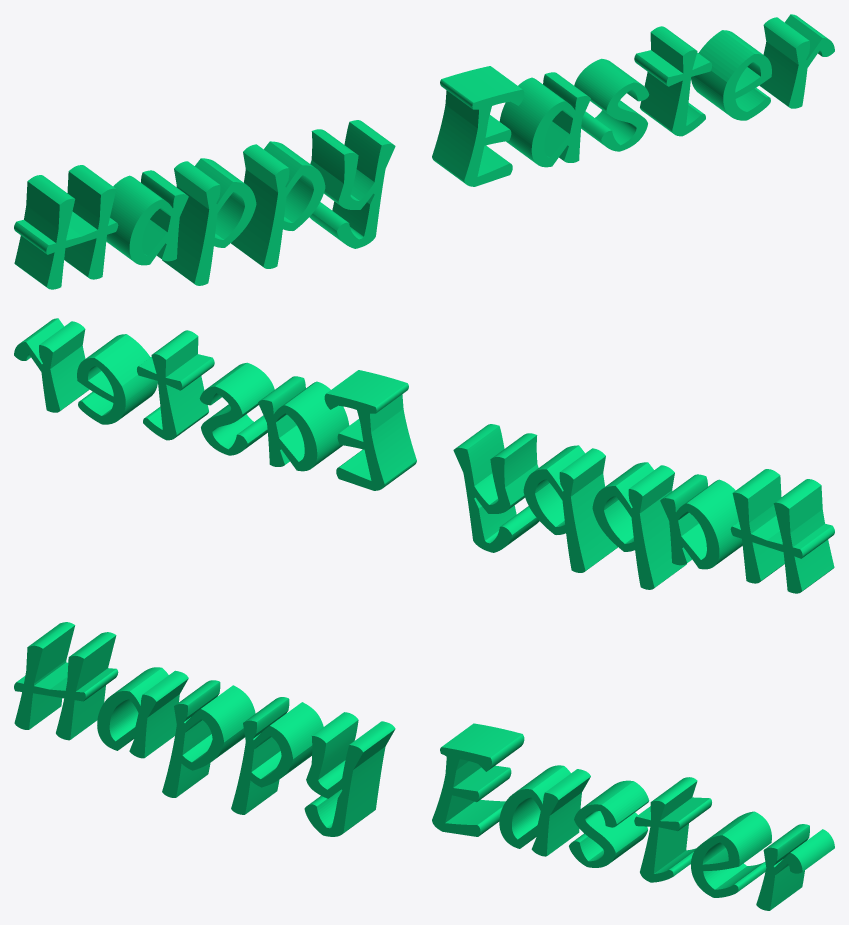
File: happy.obj
3 renders of one model, top to bottom at view 1: azimuth 30°, elevation 25°; view 2: azimuth 150°, elevation 25°; view 3: azimuth 330°, elevation 25°, orthographic.
Parts seen in each view (by area): view 1: 000_3D_Text_-_H, 004_3D_Text_-_y, 005_3D_Text_-_E, 003_3D_Text_-_p, 002_3D_Text_-_p, 006_3D_Text_-_a, 001_3D_Text_-_a, 008_3D_Text_-_t, 009_3D_Text_-_e, 007_3D_Text_-_s, 010_3D_Text_-_r; view 2: 000_3D_Text_-_H, 004_3D_Text_-_y, 005_3D_Text_-_E, 003_3D_Text_-_p, 002_3D_Text_-_p, 006_3D_Text_-_a, 001_3D_Text_-_a, 008_3D_Text_-_t, 009_3D_Text_-_e, 007_3D_Text_-_s, 010_3D_Text_-_r; view 3: 000_3D_Text_-_H, 004_3D_Text_-_y, 005_3D_Text_-_E, 002_3D_Text_-_p, 003_3D_Text_-_p, 006_3D_Text_-_a, 001_3D_Text_-_a, 009_3D_Text_-_e, 007_3D_Text_-_s, 008_3D_Text_-_t, 010_3D_Text_-_r.
Boxes of the visible parts, <box> form: 000_3D_Text_-_H: <box>14,165,118,289</box>; 004_3D_Text_-_y: <box>309,120,395,248</box>; 005_3D_Text_-_E: <box>432,66,524,186</box>; 003_3D_Text_-_p: <box>231,141,325,268</box>; 002_3D_Text_-_p: <box>162,158,256,285</box>; 006_3D_Text_-_a: <box>499,72,590,167</box>; 001_3D_Text_-_a: <box>106,170,188,265</box>; 008_3D_Text_-_t: <box>634,26,711,136</box>; 009_3D_Text_-_e: <box>691,30,771,120</box>; 007_3D_Text_-_s: <box>574,58,649,151</box>; 010_3D_Text_-_r: <box>759,14,834,108</box>; 000_3D_Text_-_H: <box>730,469,834,593</box>; 004_3D_Text_-_y: <box>453,424,539,552</box>; 005_3D_Text_-_E: <box>324,370,416,490</box>; 003_3D_Text_-_p: <box>523,445,617,572</box>; 002_3D_Text_-_p: <box>592,462,686,589</box>; 006_3D_Text_-_a: <box>258,376,349,471</box>; 001_3D_Text_-_a: <box>660,474,742,569</box>; 008_3D_Text_-_t: <box>137,330,214,440</box>; 009_3D_Text_-_e: <box>77,334,157,424</box>; 007_3D_Text_-_s: <box>199,362,274,455</box>; 010_3D_Text_-_r: <box>14,318,89,412</box>; 000_3D_Text_-_H: <box>14,622,118,740</box>; 004_3D_Text_-_y: <box>304,712,395,836</box>; 005_3D_Text_-_E: <box>432,723,524,836</box>; 002_3D_Text_-_p: <box>162,680,255,797</box>; 003_3D_Text_-_p: <box>231,697,323,814</box>; 006_3D_Text_-_a: <box>499,765,590,856</box>; 001_3D_Text_-_a: <box>97,667,188,758</box>; 009_3D_Text_-_e: <box>690,811,771,897</box>; 007_3D_Text_-_s: <box>569,780,649,867</box>; 008_3D_Text_-_t: <box>634,777,711,882</box>; 010_3D_Text_-_r: <box>756,824,834,910</box>.
Size of the model in its own units: 352 by 50.96 by 25.
